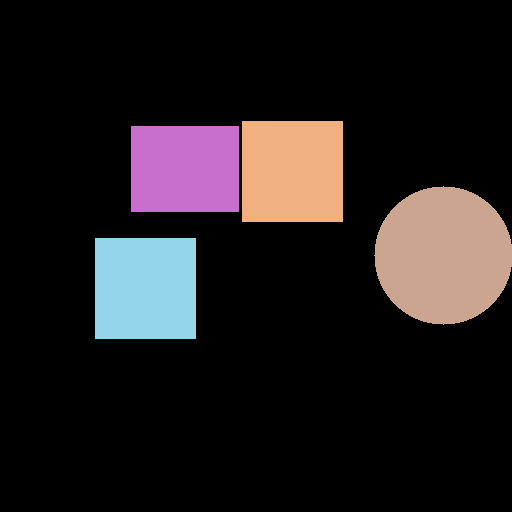circle: (374, 186, 511, 324)
rectangle: (131, 126, 238, 211)
square: (95, 238, 195, 338), (242, 121, 342, 221)
